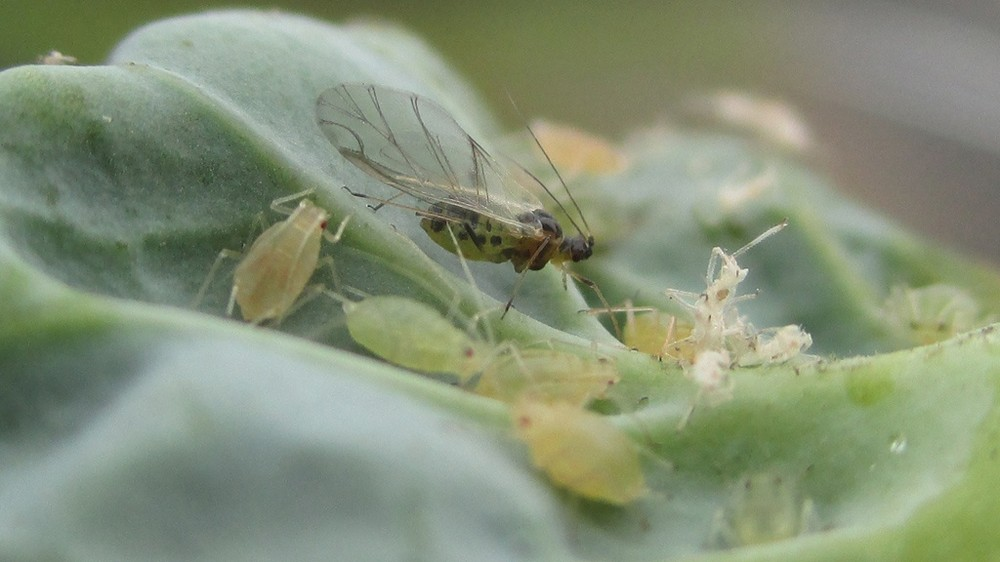Pulgon: (190, 169, 356, 331), (503, 384, 685, 526), (332, 276, 528, 392), (476, 325, 645, 419), (601, 285, 717, 367)
